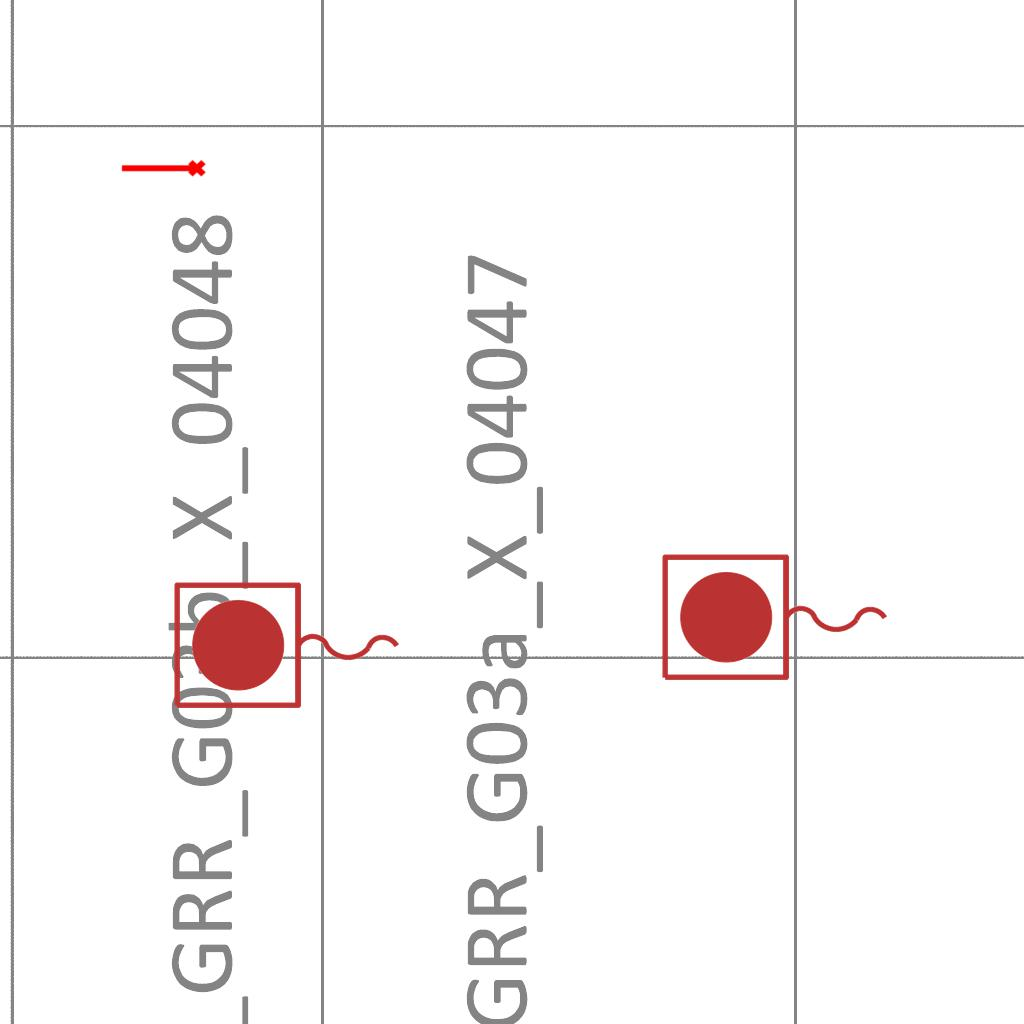ASR_Ansaugoeffnung: (119, 158, 207, 181)
Zugtaster: (166, 575, 410, 719), (654, 547, 898, 691)
